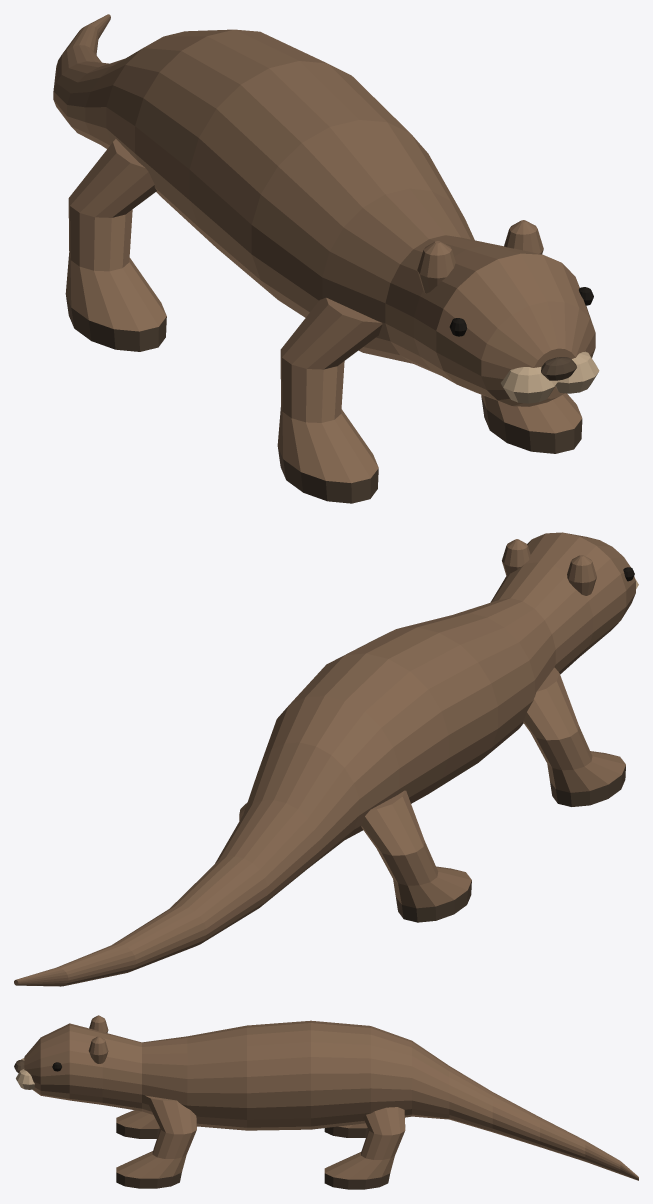
3 renders of one model, top to bottom at view 1: azimuth 30°, elevation 25°; view 2: azimuth 150°, elevation 25°; view 3: azimuth 270°, elevation 25°, orthographic. The views are drawn at different scales.
Parts seen in each view (by area): view 1: WholeBluntHeadLongLowTorsoAndTaperingTail, WholeShortBentForeLegAndWebbedFoot0, WholeShortBentHindLegAndWebbedFoot0, WholeShortBentForeLegAndWebbedFoot1, WholePaleOtterMuzzlePad0, WholeSmallRoundedOtterEar0, WholePaleOtterMuzzlePad1, WholeSmallRoundedOtterEar1; view 2: WholeBluntHeadLongLowTorsoAndTaperingTail, WholeShortBentHindLegAndWebbedFoot0, WholeShortBentForeLegAndWebbedFoot0, WholeSmallRoundedOtterEar0, WholeSmallRoundedOtterEar1; view 3: WholeBluntHeadLongLowTorsoAndTaperingTail, WholeShortBentForeLegAndWebbedFoot1, WholeShortBentHindLegAndWebbedFoot1, WholeShortBentForeLegAndWebbedFoot0, WholeShortBentHindLegAndWebbedFoot0, WholeSmallRoundedOtterEar1, WholePaleOtterMuzzlePad1.
Part boxes in pixels (bbox=[...]): WholeBluntHeadLongLowTorsoAndTaperingTail: bbox=[53, 14, 595, 406]; WholeShortBentForeLegAndWebbedFoot0: bbox=[277, 297, 382, 503]; WholeShortBentHindLegAndWebbedFoot0: bbox=[65, 139, 166, 351]; WholeShortBentForeLegAndWebbedFoot1: bbox=[481, 393, 582, 453]; WholePaleOtterMuzzlePad0: bbox=[501, 367, 557, 403]; WholeSmallRoundedOtterEar0: bbox=[417, 241, 455, 293]; WholePaleOtterMuzzlePad1: bbox=[555, 351, 599, 393]; WholeSmallRoundedOtterEar1: bbox=[504, 220, 543, 254]; WholeBluntHeadLongLowTorsoAndTaperingTail: bbox=[14, 532, 635, 986]; WholeShortBentHindLegAndWebbedFoot0: bbox=[361, 790, 471, 922]; WholeShortBentForeLegAndWebbedFoot0: bbox=[523, 667, 625, 806]; WholeSmallRoundedOtterEar0: bbox=[567, 555, 596, 595]; WholeSmallRoundedOtterEar1: bbox=[502, 539, 530, 576]; WholeBluntHeadLongLowTorsoAndTaperingTail: bbox=[24, 1020, 638, 1180]; WholeShortBentForeLegAndWebbedFoot1: bbox=[116, 1095, 196, 1188]; WholeShortBentHindLegAndWebbedFoot1: bbox=[324, 1107, 405, 1189]; WholeShortBentForeLegAndWebbedFoot0: bbox=[116, 1110, 160, 1138]; WholeShortBentHindLegAndWebbedFoot0: bbox=[324, 1123, 368, 1137]; WholeSmallRoundedOtterEar1: bbox=[88, 1036, 108, 1063]; WholePaleOtterMuzzlePad1: bbox=[16, 1069, 34, 1089].
Bounding box in the file's own units: 0.8744 × 0.71 × 3.03.
